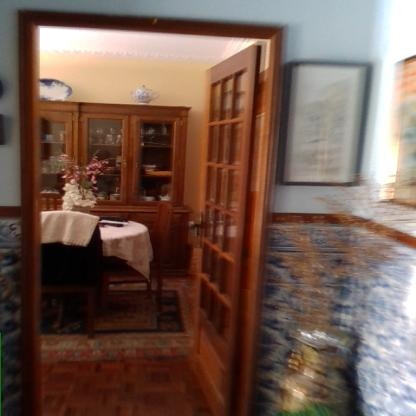open: (7, 2, 295, 416)
